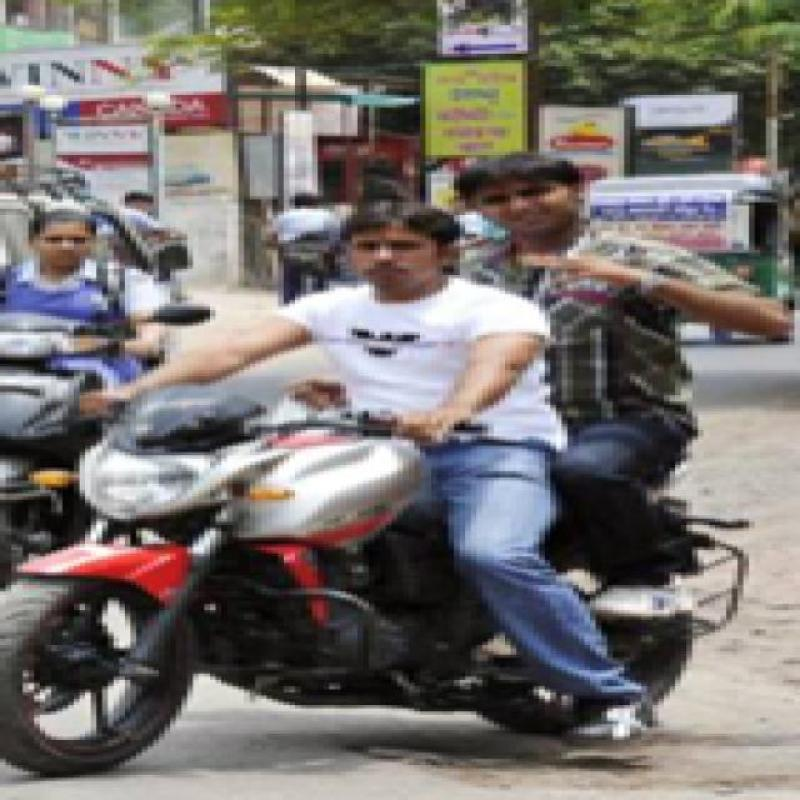nohelmet: (456, 140, 613, 246), (312, 195, 458, 306)
